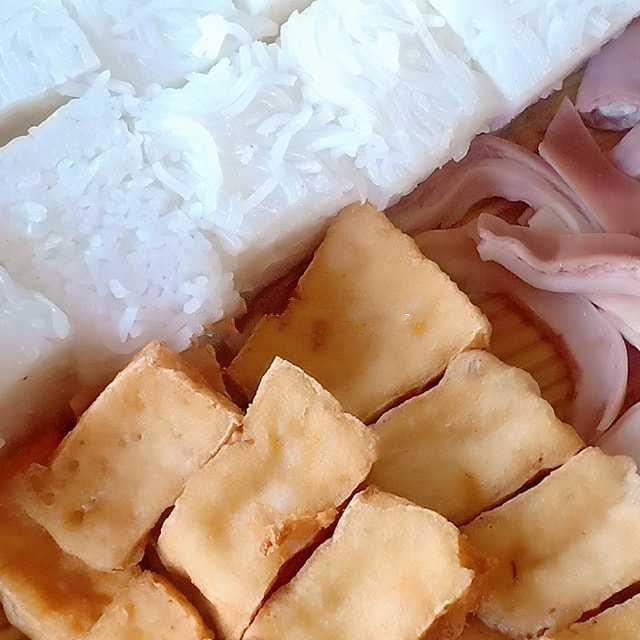bun: (29, 0, 552, 307), (0, 0, 316, 484)
bun dau: (0, 0, 640, 640)
dau hu: (0, 171, 640, 640)
